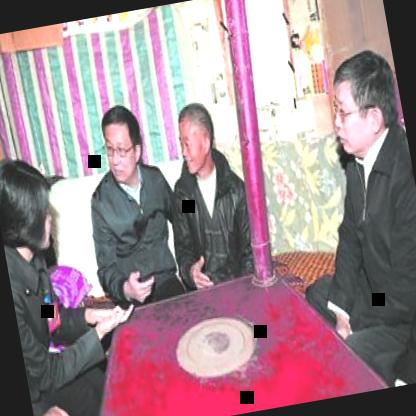head: (316, 40, 405, 163), (0, 145, 67, 268), (93, 94, 148, 182), (170, 94, 222, 171), (0, 100, 17, 257)
